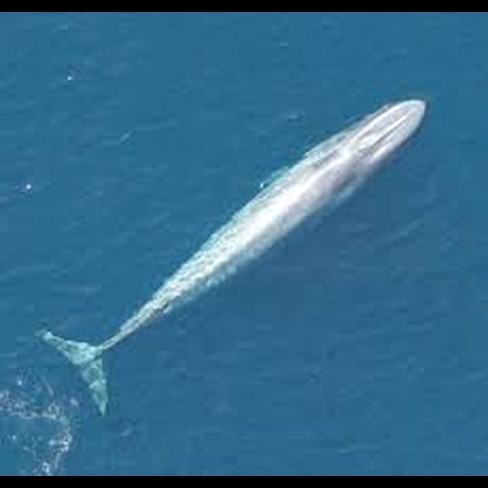bluewhale: (31, 92, 429, 421)
